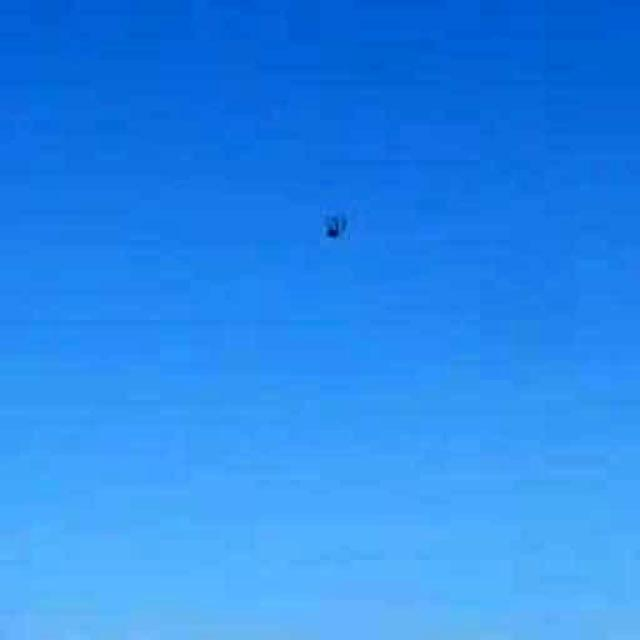drone: (300, 188, 370, 260)
